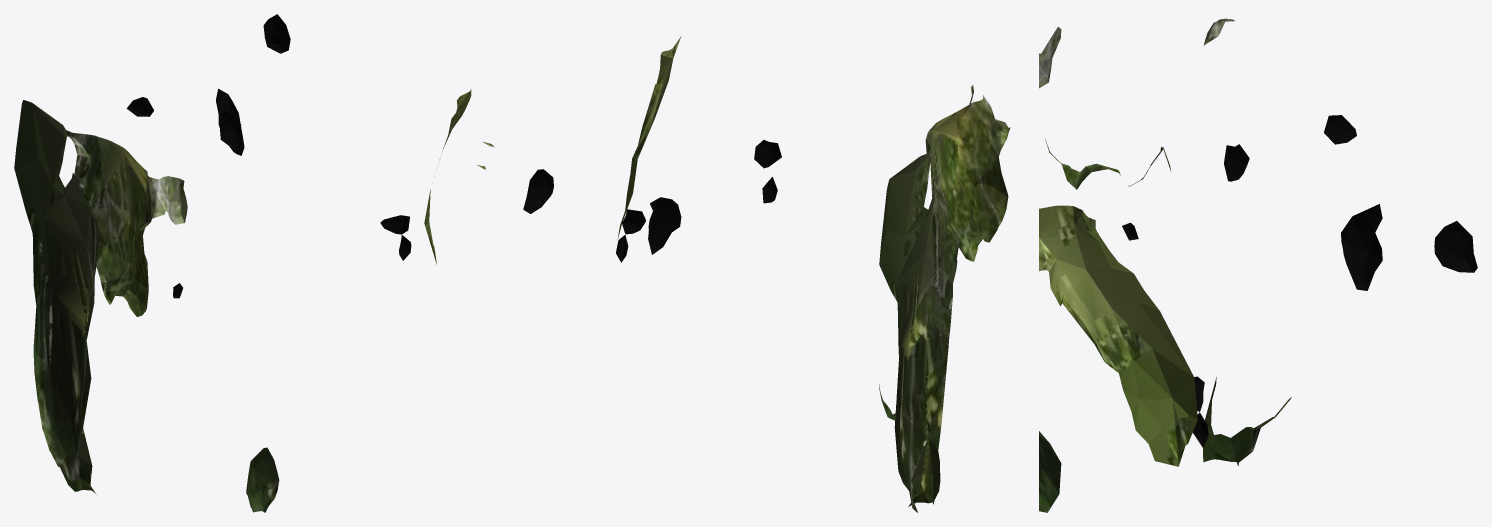
3 renders of one model, left to right at view 1: azimuth 30°, elevation 25°; view 2: azimuth 150°, elevation 25°; view 3: azimuth 270°, elevation 25°, orthographic. The views are drawn at different scales.
Bounding box in the file's own units: 2.95 × 2.95 × 2.65.
2 materials, 2 textured.
